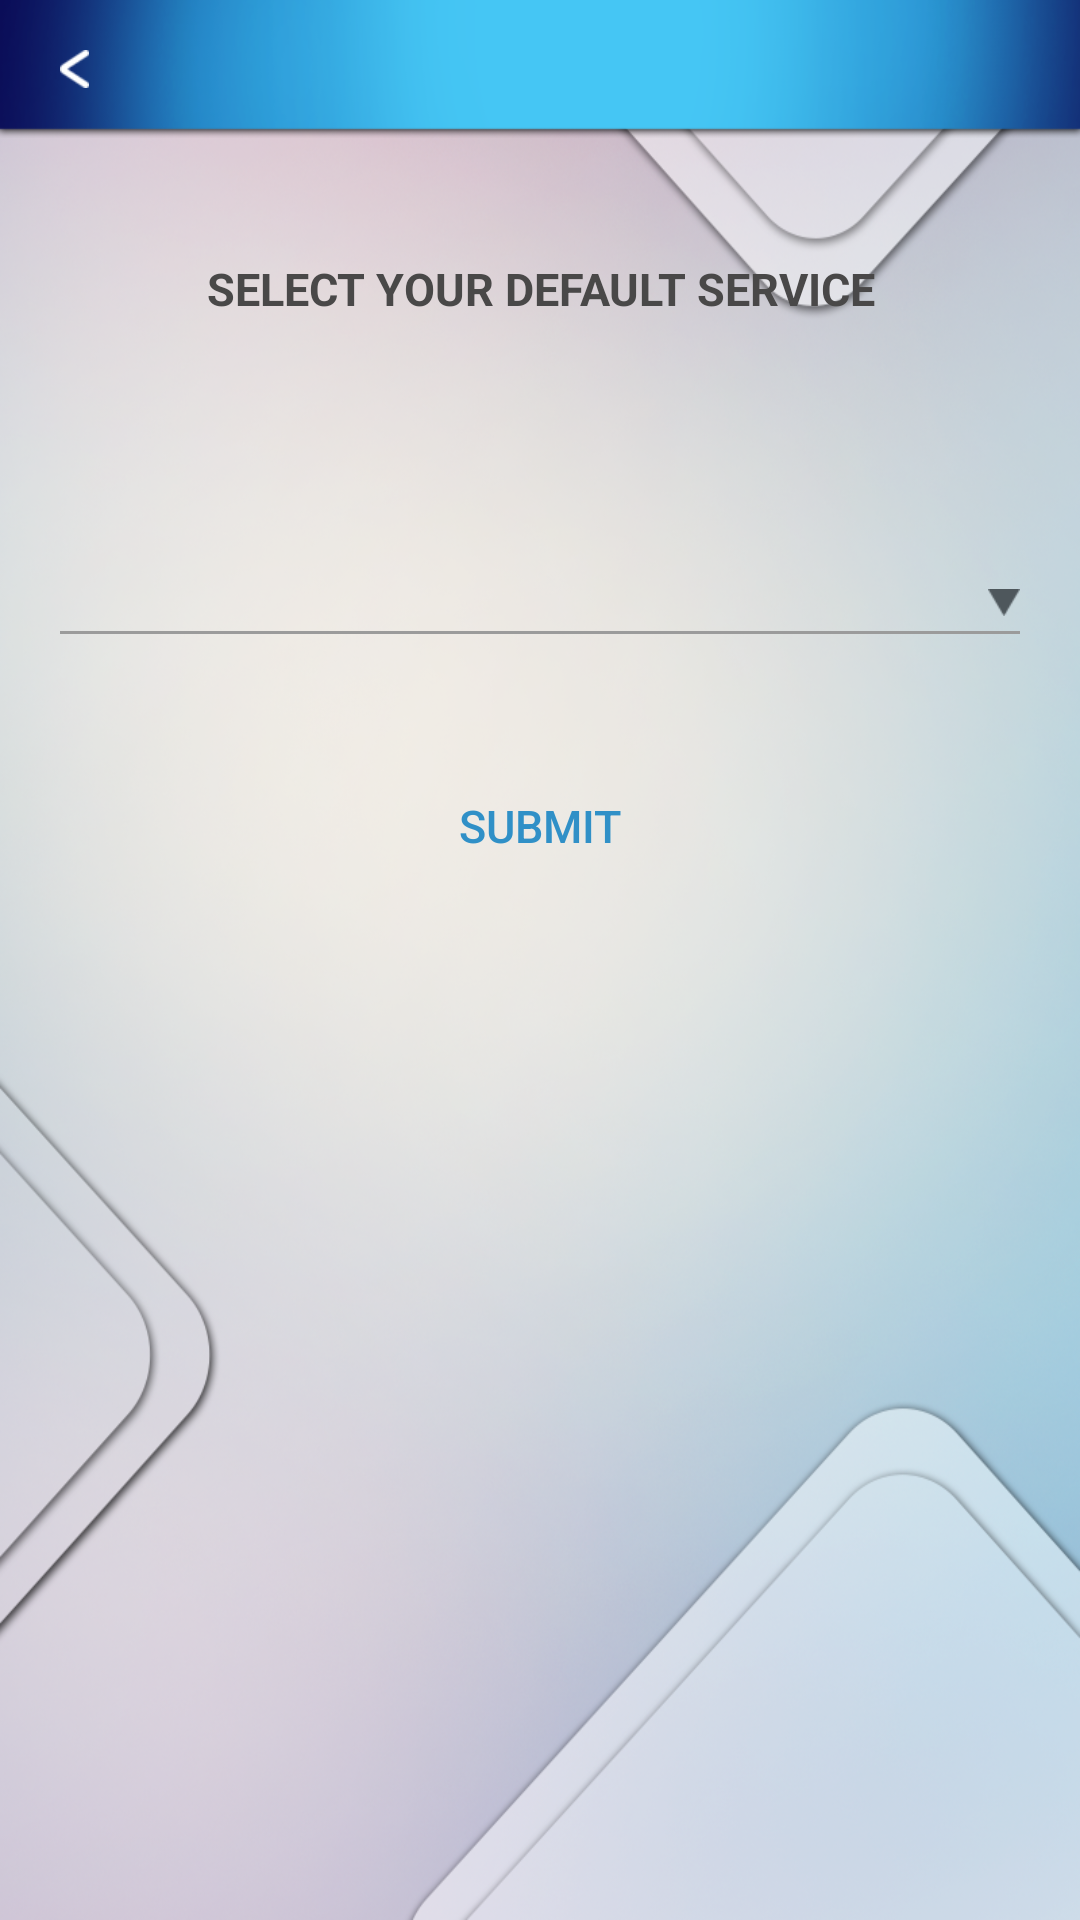

Screen size 1080 x 1920. Icon name, then its box in pixels as [x1, y1, x2, y2]:
back: [60, 50, 89, 88]
downword: [988, 589, 1020, 616]
